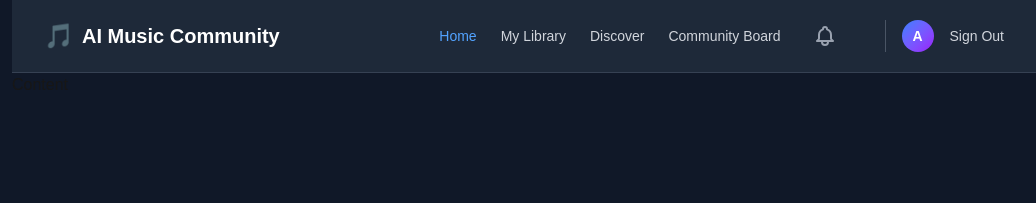
Scenario: Admin Navigation Integration › Admin Link Navigation › should close dropdown after clicking admin link
The image size is (1036, 203).
// Open avatar dropdown
Click the button named "User menu" at (918, 36), box [902,20,934,52]
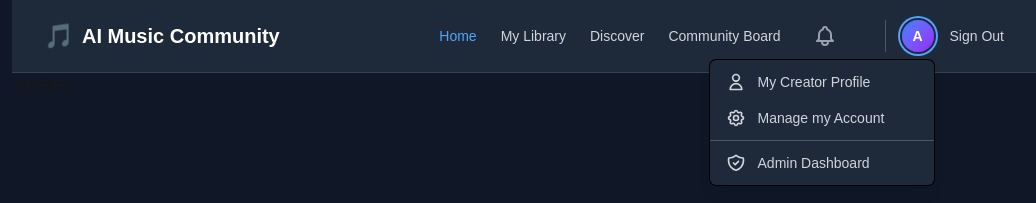
Expected: the menu item "Admin Dashboard" is shown
// Click admin link
Click the menu item "Admin Dashboard" at (822, 163), box [710,145,934,181]
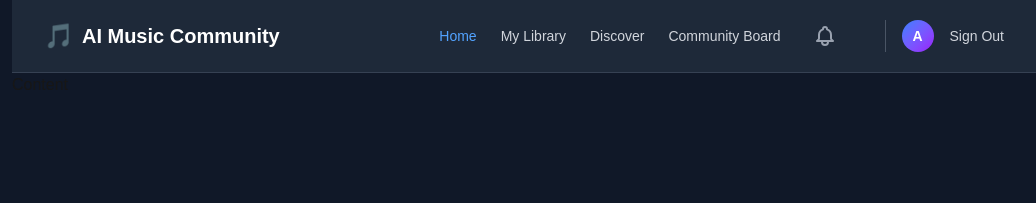
Expected: the menu item "Admin Dashboard" is gone
